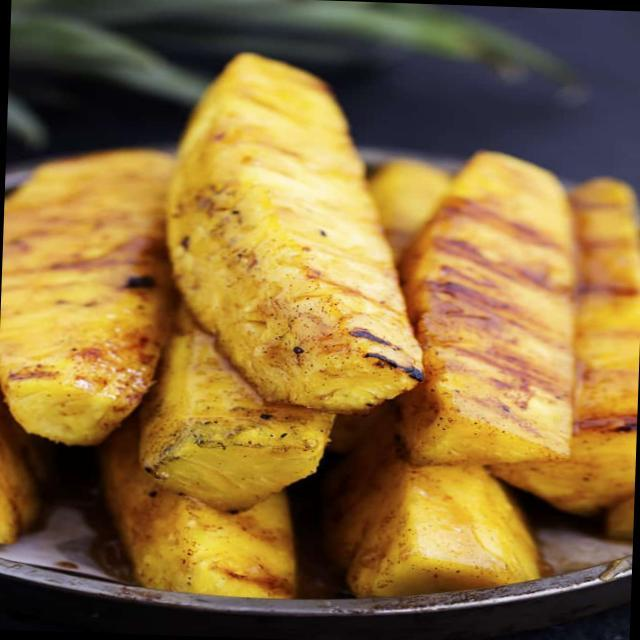PINEAPLE: (160, 38, 416, 440), (418, 67, 579, 480), (0, 96, 153, 441), (149, 326, 341, 507), (94, 490, 348, 610), (372, 443, 544, 599)
